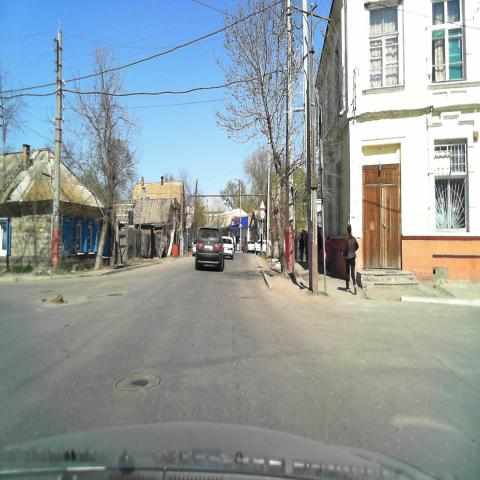1_23: (259, 200, 265, 208)
3_24: (259, 210, 265, 219)
